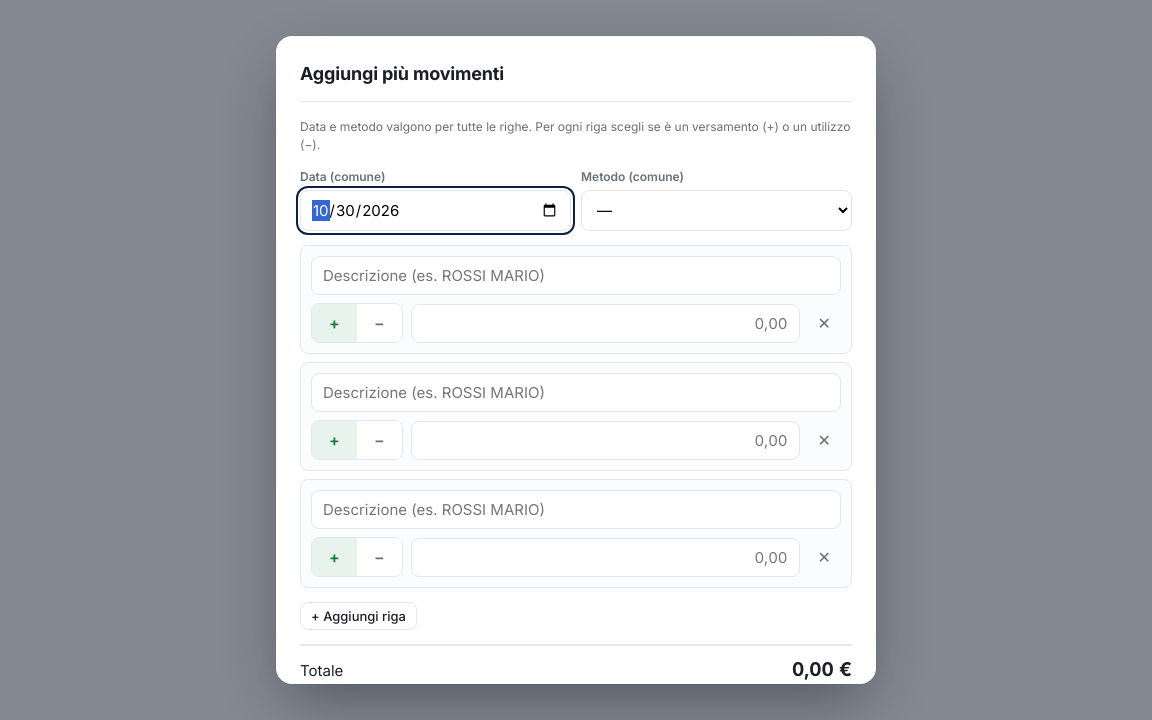
BulkMovimentiModal — l'errore va sulla RIGA, non in un riassunto › togliere l'ultima riga rimasta dà un avviso invece di un toast
Click the button named "Togli riga" at (824, 323), box [808,307,841,339]
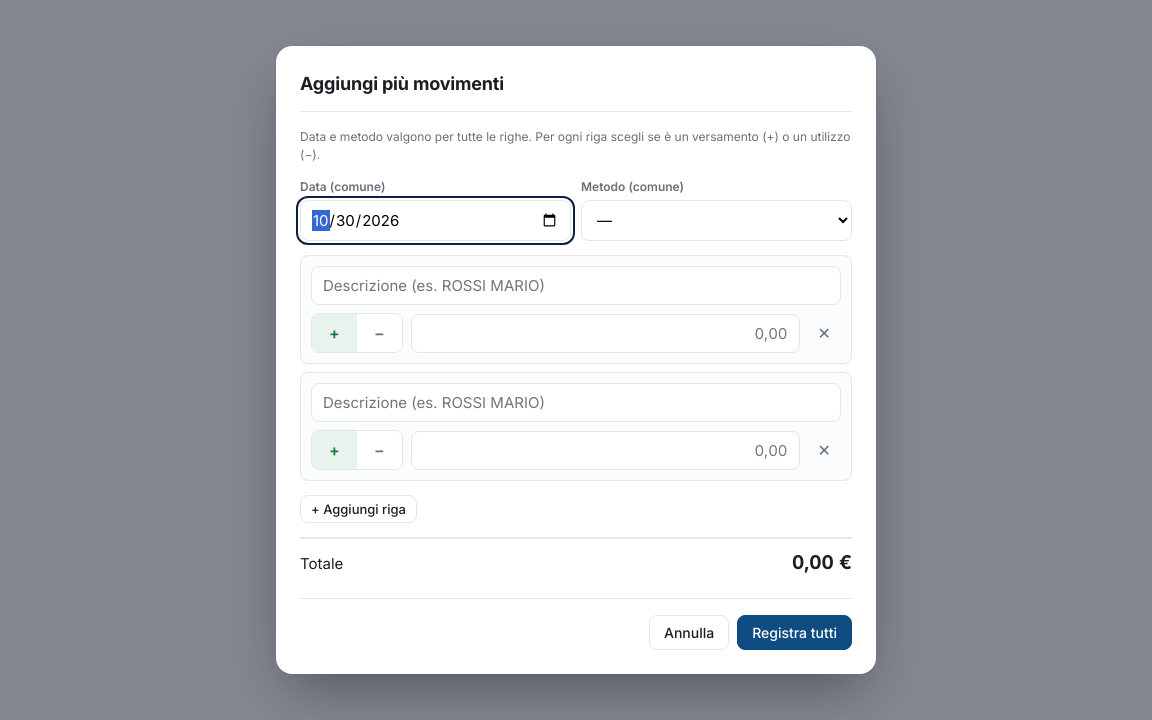
Click the button named "Togli riga" at (824, 333), box [808,317,841,349]
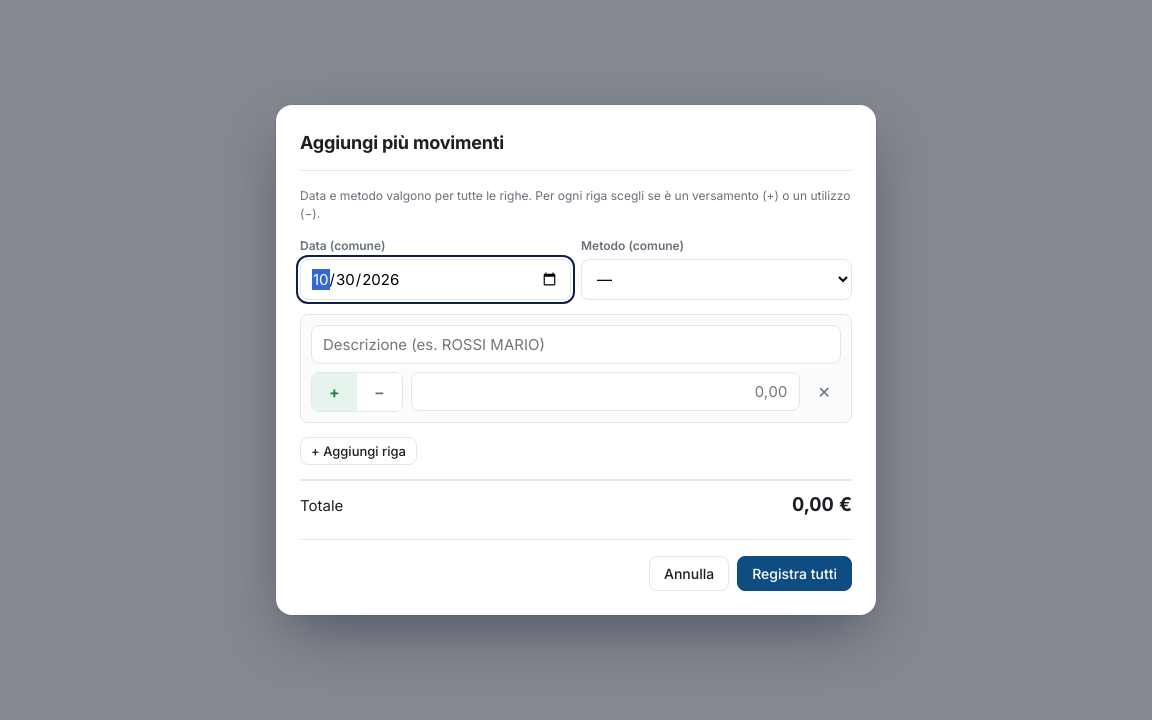
Click the button named "Togli riga" at (824, 392), box [808,376,841,408]
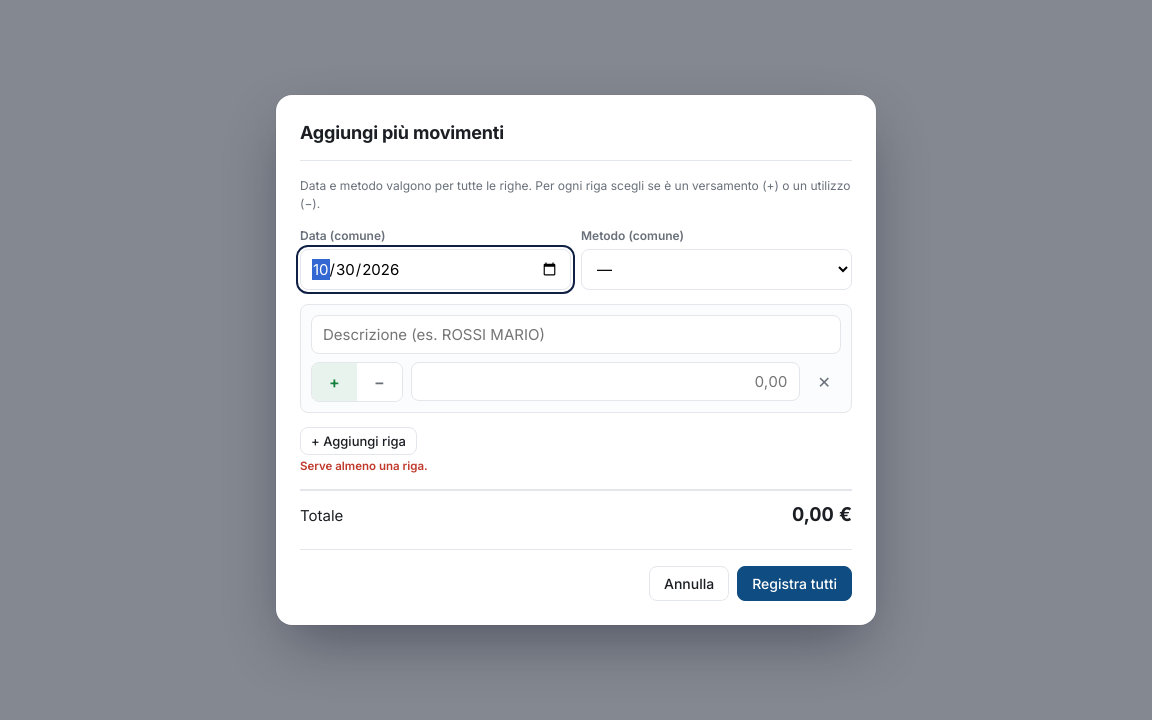
Now the number of fields named "Descrizione del movimento" is 1, box [311,315,841,354]
Now the message shows "Serve almeno una riga", box [300,459,428,473]
